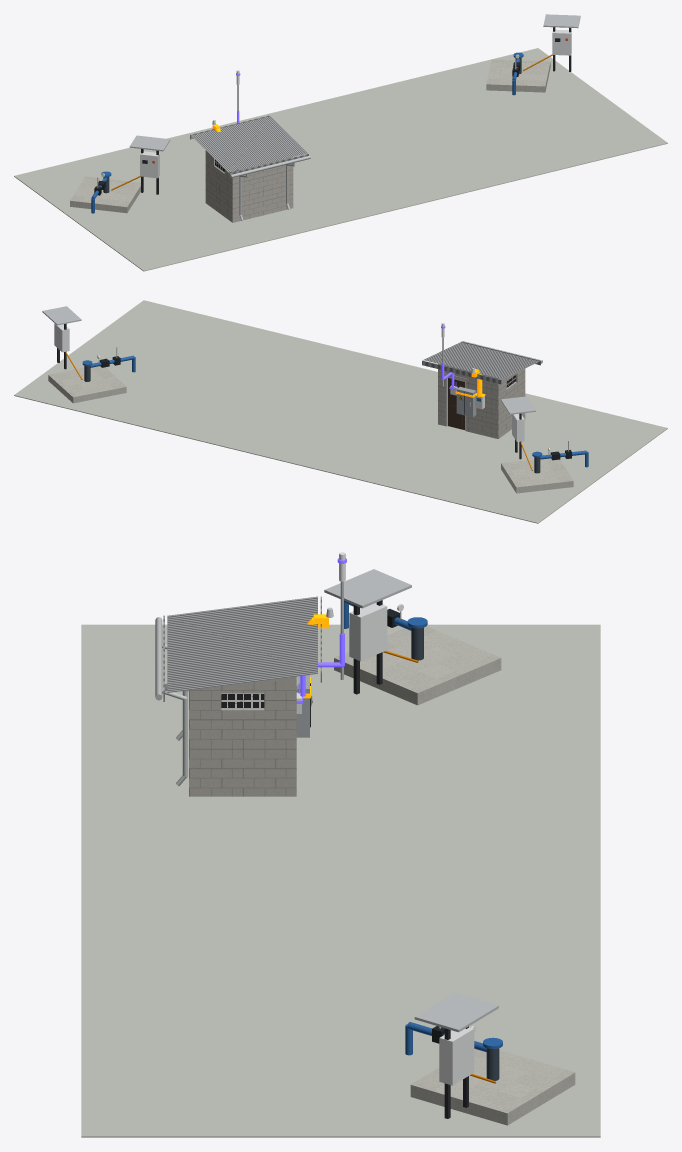
The model's file is captacion_lod0.glb.
3 renders of one model, top to bottom at view 1: azimuth 30°, elevation 25°; view 2: azimuth 150°, elevation 25°; view 3: azimuth 270°, elevation 25°, orthographic. The views are drawn at different scales.
Visible parts, largest first — view 1: entorno, obra_nueva_estructura, obra_nueva_cubierta; view 2: entorno, obra_nueva_estructura, obra_nueva_cubierta, punto_conexion; view 3: entorno, obra_nueva_estructura, obra_nueva_cubierta, punto_conexion.
Boxes of the visible parts, bbox=[...] form: entorno: bbox=[14, 14, 667, 271]; obra_nueva_estructura: bbox=[205, 150, 310, 222]; obra_nueva_cubierta: bbox=[190, 115, 308, 177]; entorno: bbox=[14, 300, 667, 523]; obra_nueva_estructura: bbox=[438, 341, 542, 438]; obra_nueva_cubierta: bbox=[422, 341, 540, 384]; punto_conexion: bbox=[455, 368, 485, 417]; entorno: bbox=[81, 569, 600, 1137]; obra_nueva_estructura: bbox=[155, 617, 297, 796]; obra_nueva_cubierta: bbox=[163, 596, 321, 701]; punto_conexion: bbox=[296, 607, 333, 737].
Size of the model in its own units: 22.8 by 4.68 by 9.65.
Materials: 13 (4 with a texture image).
